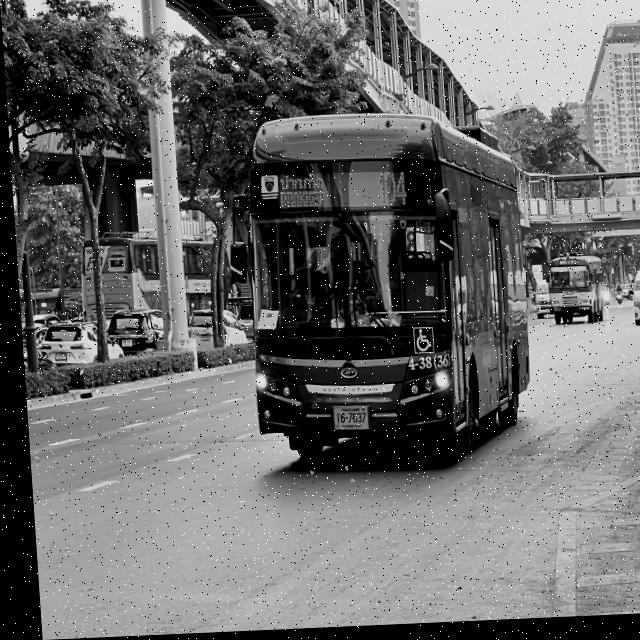BMTA-bus: (540, 252, 604, 332)
Bus-Line-Number: (370, 168, 414, 215)
Destination-Sign-Normal: (273, 173, 328, 217)
TSB-Bus: (228, 104, 536, 481)
